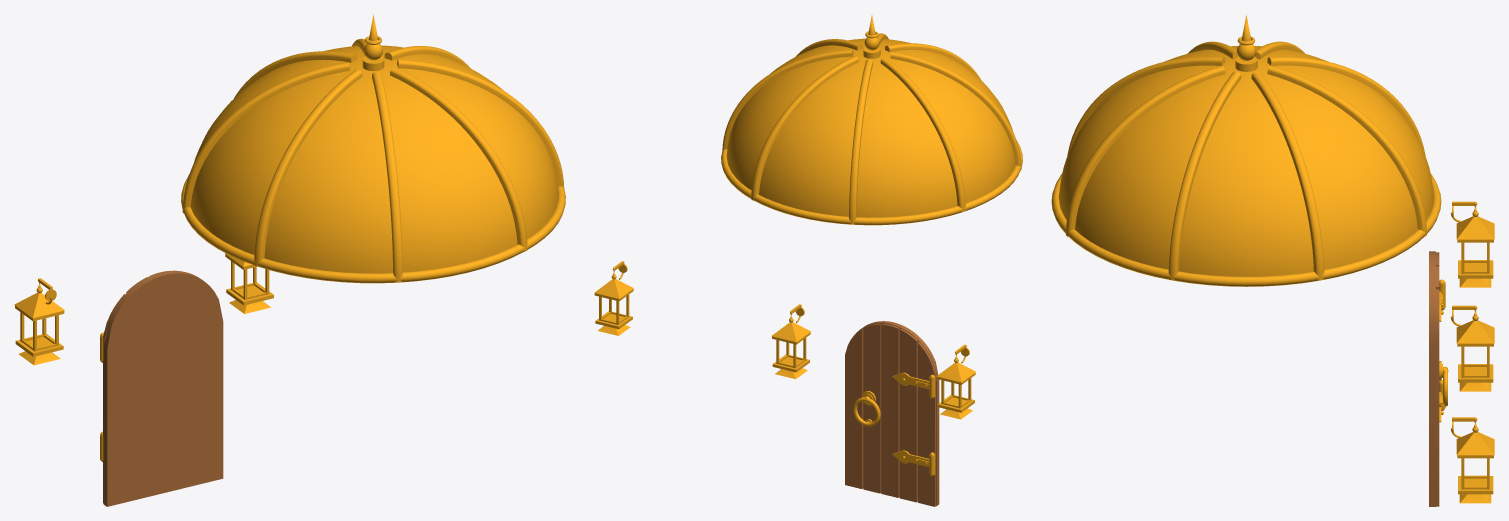
Rendered from HaloShop_Potion_ornaments.glb.
The picture shows the model from 3 angles, left to right: view 1: azimuth 30°, elevation 25°; view 2: azimuth 150°, elevation 25°; view 3: azimuth 270°, elevation 25°; orthographic projection. The views are drawn at different scales.
Visible parts, largest first — view 1: Orn_HaloShop_Potion_Dome, Orn_HaloShop_Potion_Leaf, Orn_HaloShop_Potion_Dome_Ribs, Orn_HaloShop_Potion_Lantern2, Orn_HaloShop_Potion_Lantern1; view 2: Orn_HaloShop_Potion_Dome, Orn_HaloShop_Potion_Leaf, Orn_HaloShop_Potion_Dome_Ribs, Orn_HaloShop_Potion_Lantern1, Orn_HaloShop_Potion_Lantern2, Orn_HaloShop_Potion_Lantern0, Orn_HaloShop_Potion_Hinge0, Orn_HaloShop_Potion_Hinge1, Orn_HaloShop_Potion_Knocker; view 3: Orn_HaloShop_Potion_Dome, Orn_HaloShop_Potion_Dome_Ribs, Orn_HaloShop_Potion_Leaf, Orn_HaloShop_Potion_Lantern0, Orn_HaloShop_Potion_Lantern2, Orn_HaloShop_Potion_Lantern1.
Boxes of the visible parts, <box> form: Orn_HaloShop_Potion_Dome: <box>181,14,565,283</box>; Orn_HaloShop_Potion_Leaf: <box>103,270,223,506</box>; Orn_HaloShop_Potion_Dome_Ribs: <box>182,38,564,282</box>; Orn_HaloShop_Potion_Lantern2: <box>14,278,64,365</box>; Orn_HaloShop_Potion_Lantern1: <box>225,253,273,313</box>; Orn_HaloShop_Potion_Dome: <box>721,15,1022,225</box>; Orn_HaloShop_Potion_Leaf: <box>845,321,939,506</box>; Orn_HaloShop_Potion_Dome_Ribs: <box>722,33,1021,224</box>; Orn_HaloShop_Potion_Lantern1: <box>771,304,810,379</box>; Orn_HaloShop_Potion_Lantern2: <box>936,344,975,419</box>; Orn_HaloShop_Potion_Lantern0: <box>594,261,633,335</box>; Orn_HaloShop_Potion_Hinge0: <box>892,450,935,476</box>; Orn_HaloShop_Potion_Hinge1: <box>892,372,935,398</box>; Orn_HaloShop_Potion_Knocker: <box>853,391,880,426</box>; Orn_HaloShop_Potion_Dome: <box>1051,14,1441,286</box>; Orn_HaloShop_Potion_Dome_Ribs: <box>1066,41,1426,280</box>; Orn_HaloShop_Potion_Leaf: <box>1429,251,1439,506</box>; Orn_HaloShop_Potion_Lantern0: <box>1450,417,1494,503</box>; Orn_HaloShop_Potion_Lantern2: <box>1450,201,1494,287</box>; Orn_HaloShop_Potion_Lantern1: <box>1450,305,1494,391</box>.
Size of the model in its own units: 17.35 by 18.25 by 14.02.
